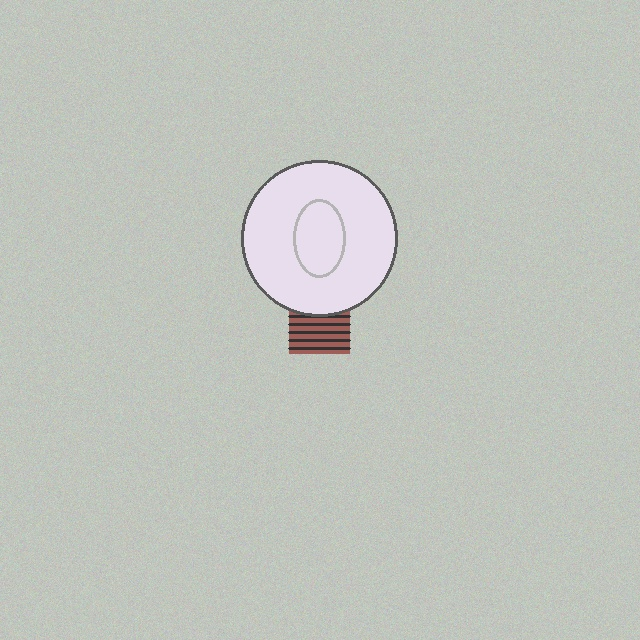bulb: (237, 156, 401, 358)
